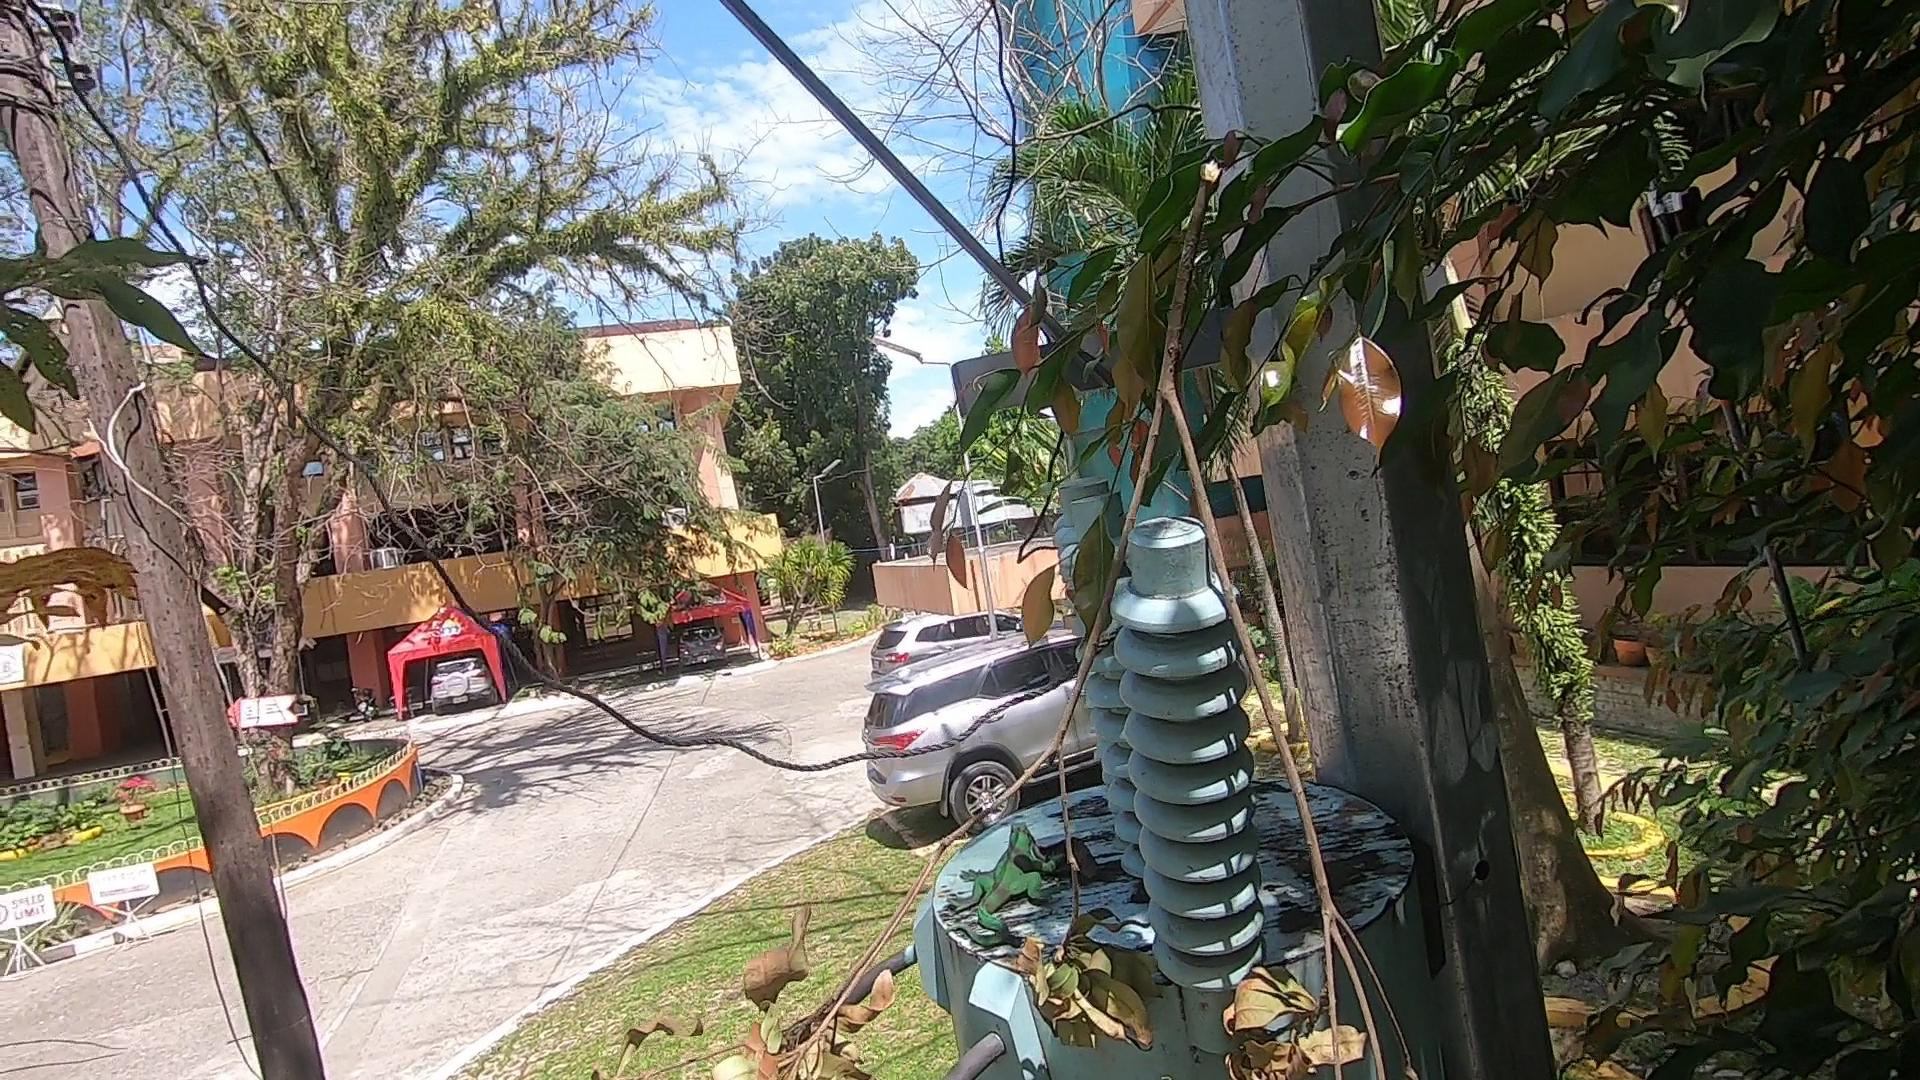branch with leaves: (574, 185, 1424, 1077)
leaf: (1044, 839, 1121, 905)
